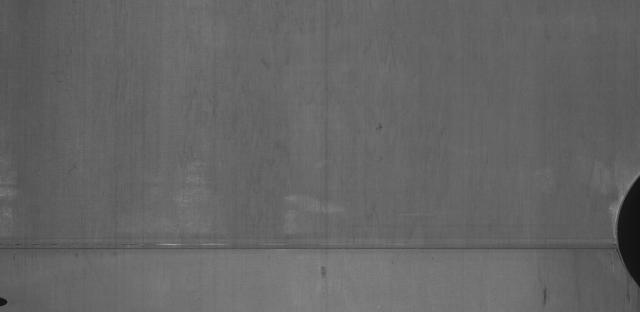punching_hole: (0, 292, 12, 309)
welding_line: (0, 238, 629, 263)
